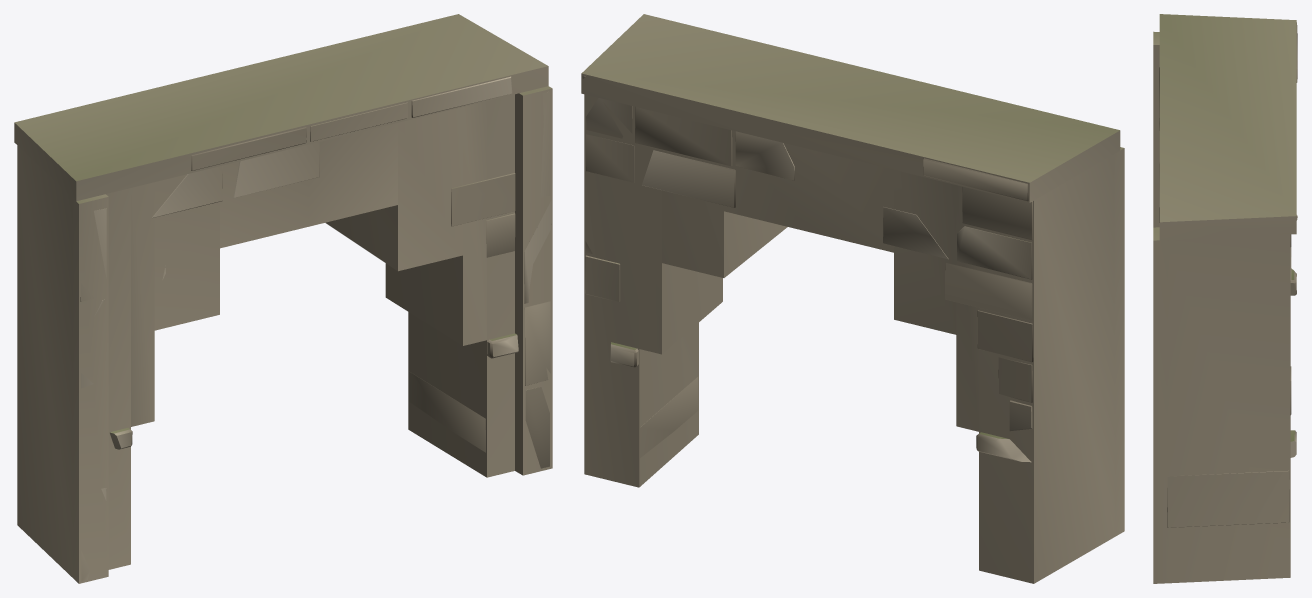
The model's file is arena_upper.glb.
The picture shows the model from 3 angles, left to right: view 1: azimuth 30°, elevation 25°; view 2: azimuth 150°, elevation 25°; view 3: azimuth 270°, elevation 25°; orthographic projection. The views are drawn at different scales.
Visible parts, largest first — view 1: arena_upper_far, arena_upper; view 2: arena_upper_far, arena_upper; view 3: arena_upper_far, arena_upper.
Part boxes in pixels (bbox=[...]): arena_upper_far: bbox=[14, 14, 552, 583]; arena_upper: bbox=[80, 76, 551, 581]; arena_upper_far: bbox=[581, 14, 1124, 583]; arena_upper: bbox=[582, 75, 1033, 462]; arena_upper_far: bbox=[1153, 14, 1296, 583]; arena_upper: bbox=[1159, 22, 1297, 527].
Bounding box in the file's own units: 19.83 × 16 × 5.8.
